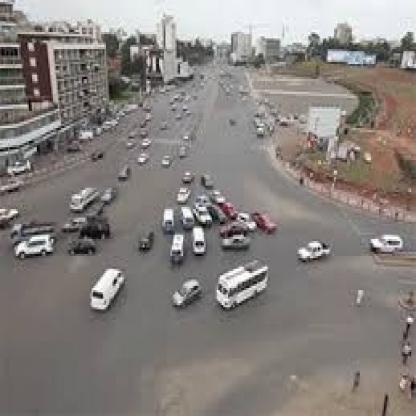car: (220, 258, 278, 315), (83, 265, 130, 325), (297, 236, 346, 280), (361, 223, 409, 265), (3, 234, 56, 269), (162, 275, 204, 312), (56, 182, 101, 216), (184, 222, 210, 257), (167, 230, 193, 264), (158, 207, 176, 231)
